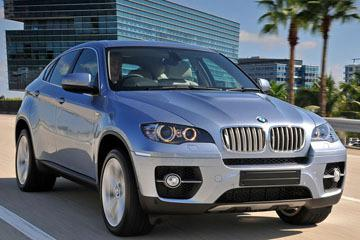Car: (4, 28, 358, 240)
